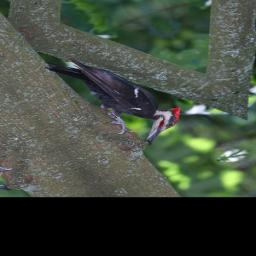Woodpecker: (41, 38, 200, 153)
